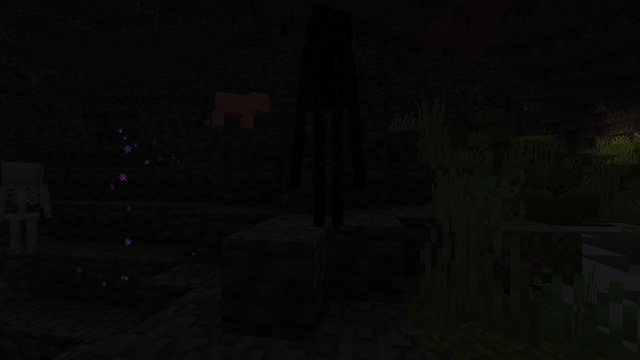cochons: (210, 89, 257, 130)
endermens: (301, 0, 350, 229)
squelettes: (4, 162, 50, 256)
